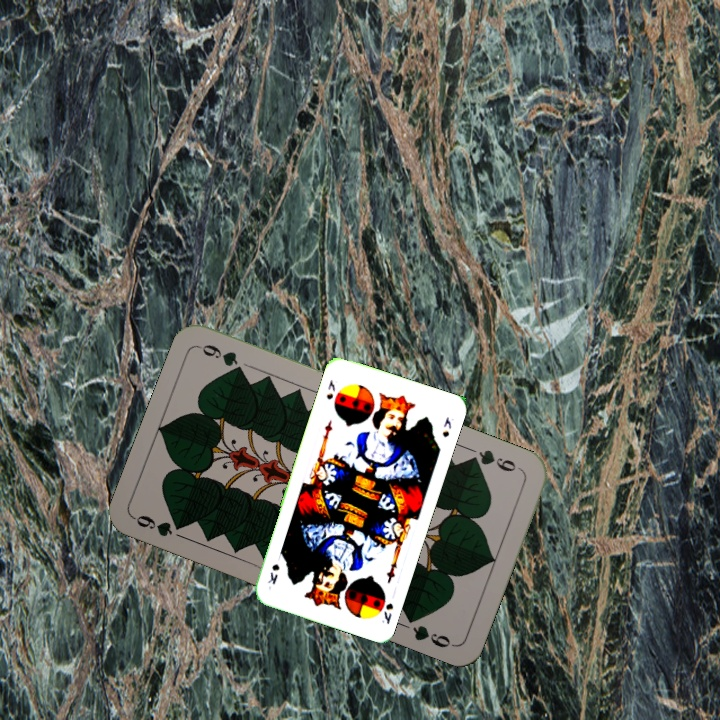G9: (464, 445, 524, 475), (130, 511, 185, 540)
SK: (378, 599, 396, 627), (322, 375, 338, 402)
